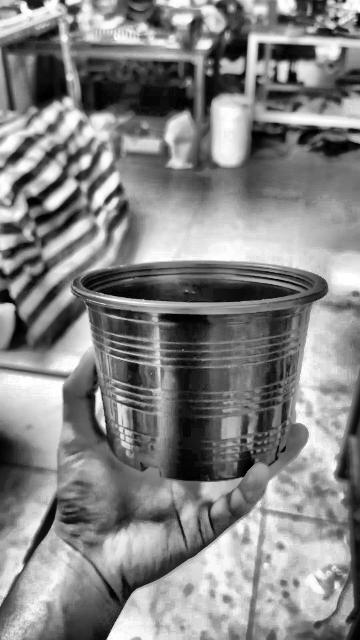pot: (71, 257, 326, 481)
